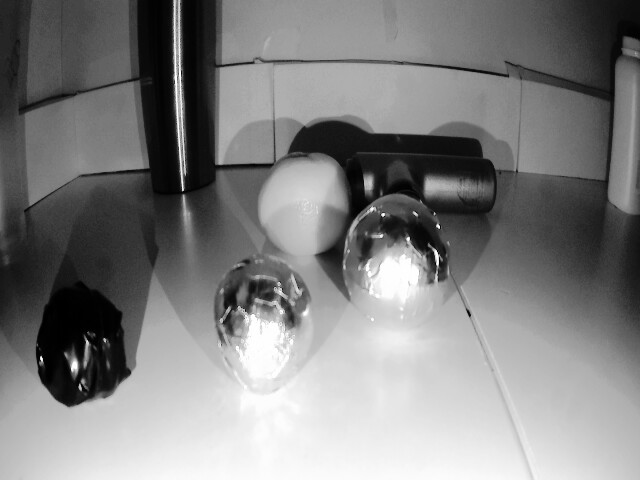black: (33, 281, 143, 410)
silver: (340, 201, 460, 326), (215, 250, 318, 391)
